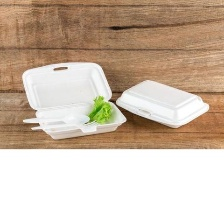foam_box: (17, 57, 131, 143), (114, 77, 213, 130)
